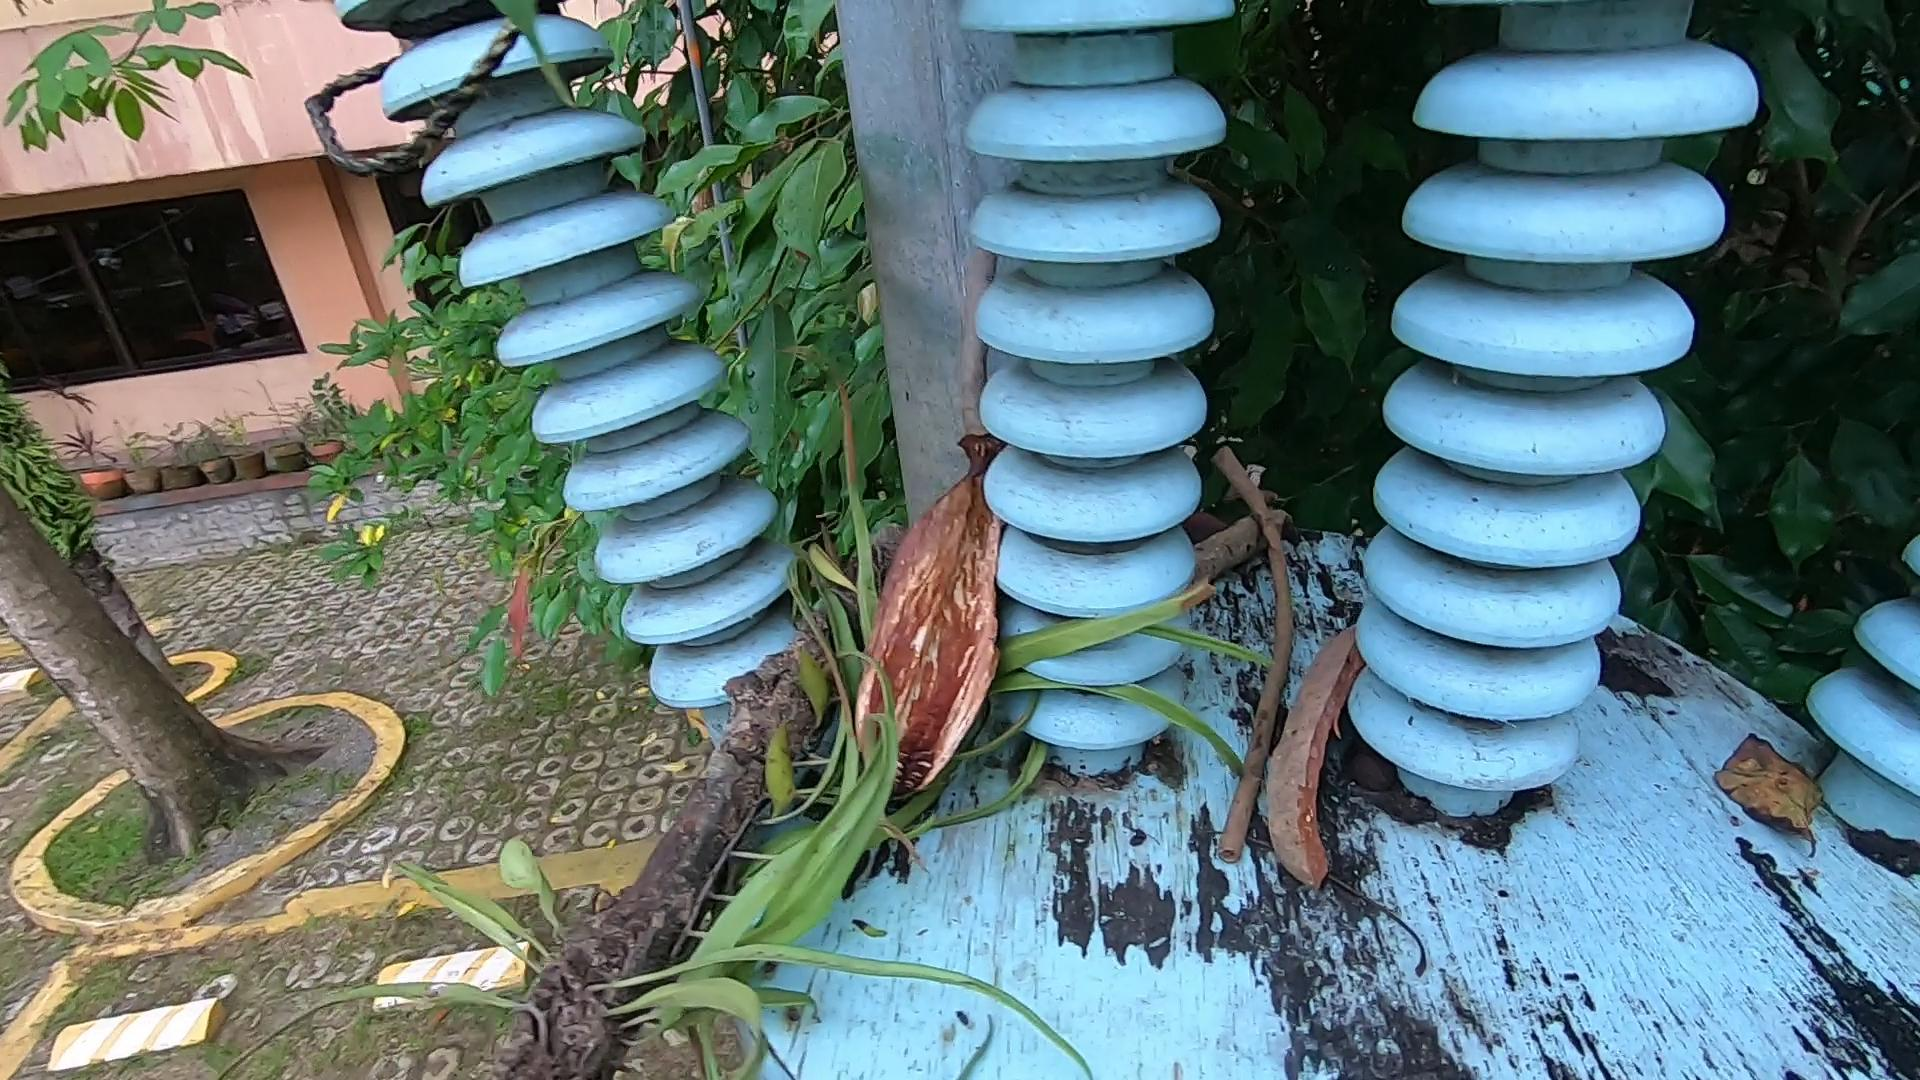branch with leaves: (214, 396, 1269, 1073)
leaf: (1716, 723, 1822, 847)
mahogany fruit: (808, 394, 1089, 915), (1215, 568, 1414, 967)
tree branch: (1212, 430, 1291, 853), (943, 224, 1006, 473), (1197, 492, 1288, 582)
